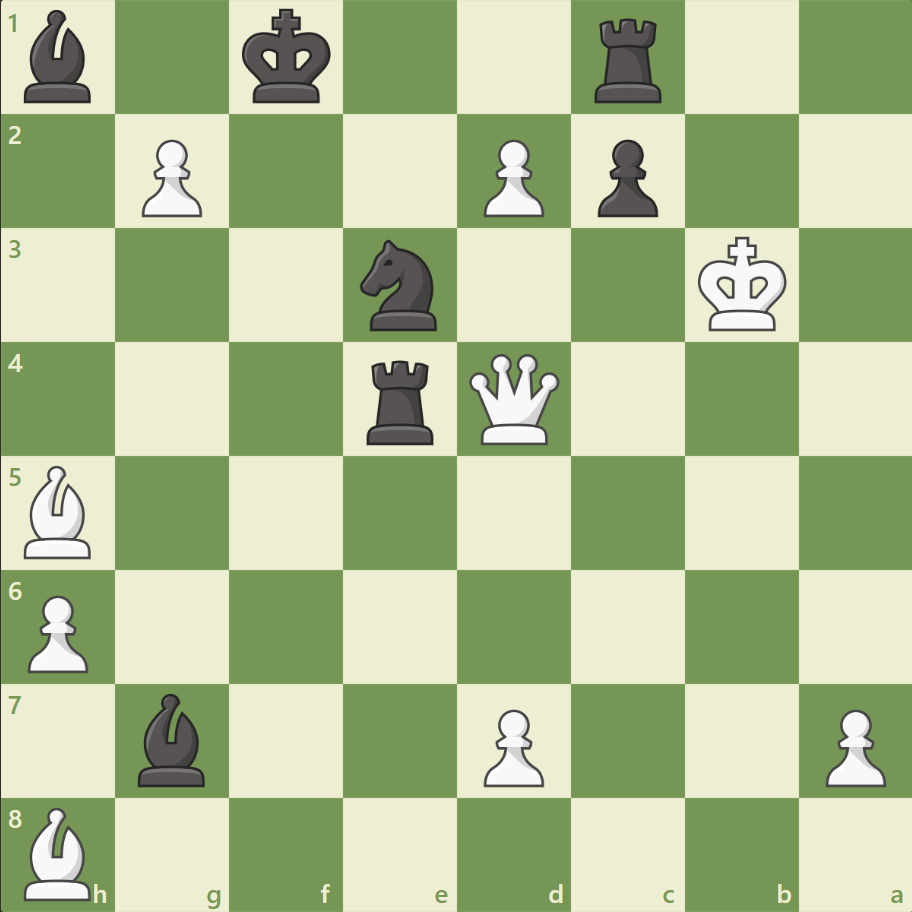B: (17, 801, 101, 904), (17, 460, 101, 563)
K: (692, 231, 792, 339)
P: (474, 700, 549, 791), (20, 586, 95, 677), (474, 132, 549, 223), (133, 132, 208, 223), (815, 700, 889, 791)
Q: (464, 349, 563, 449)
b: (131, 687, 215, 790), (17, 6, 101, 109)
k: (238, 4, 338, 112)
n: (351, 234, 449, 337)
p: (588, 132, 662, 223)
r: (587, 12, 670, 109), (360, 352, 442, 449)
